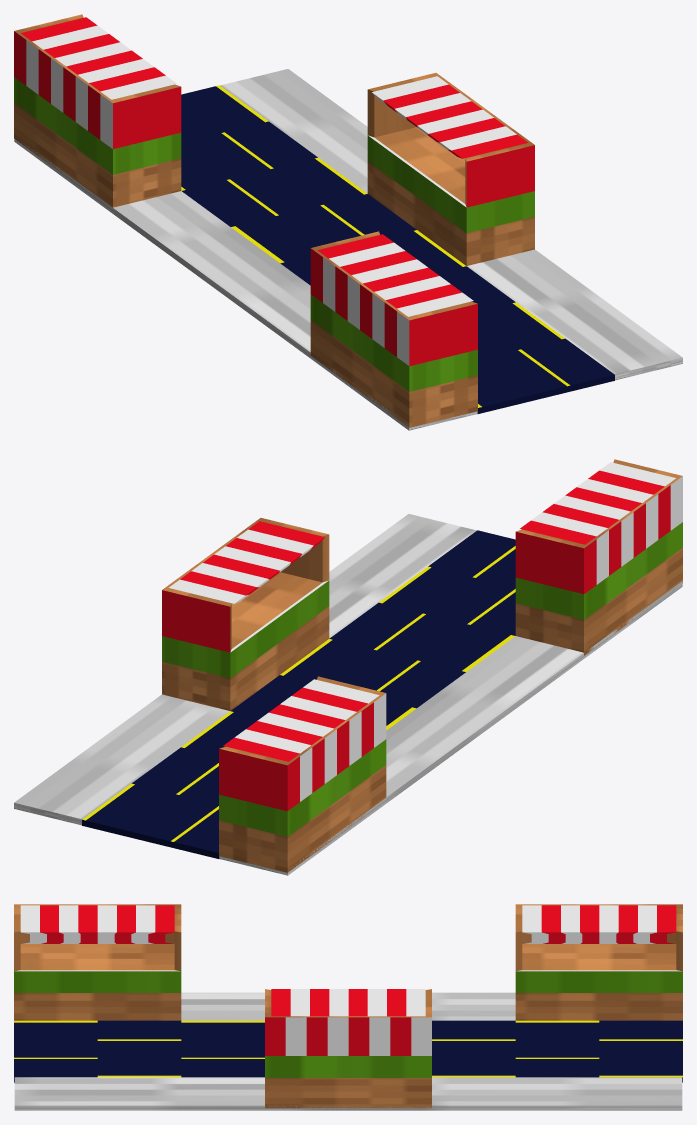
Rendered from ModifiedRoad.fbx.
3 views of the same model, one above another, from view 1: azimuth 30°, elevation 25°; view 2: azimuth 150°, elevation 25°; view 3: azimuth 270°, elevation 25° (orthographic). The views are drawn at different scales.
Visible parts, largest first — view 1: Cube, Cube.002, Cube.003, Cube.001, Cube.005, Cube.004; view 2: Cube, Cube.003, Cube.002, Cube.001, Cube.005, Cube.004; view 3: Cube, Cube.001, Cube.002, Cube.003, Cube.005, Cube.004.
Part boxes in pixels (x1,y1,x2,y2): Cube: (181, 85, 614, 413); Cube.002: (310, 231, 477, 427); Cube.003: (14, 14, 181, 207); Cube.001: (367, 73, 534, 265); Cube.005: (220, 69, 682, 380); Cube.004: (14, 139, 477, 430); Cube: (82, 530, 515, 858); Cube.003: (219, 676, 386, 872); Cube.002: (515, 459, 682, 655); Cube.001: (162, 518, 329, 710); Cube.005: (14, 514, 476, 825); Cube.004: (219, 581, 682, 875); Cube: (14, 1020, 682, 1082); Cube.001: (265, 989, 431, 1108); Cube.002: (14, 904, 181, 1020); Cube.003: (515, 904, 682, 1020); Cube.005: (14, 1077, 682, 1110); Cube.004: (181, 992, 515, 1020).
Bounding box in the file's own units: 1600 × 617 × 4000.
Materials: 7 (3 with a texture image).
